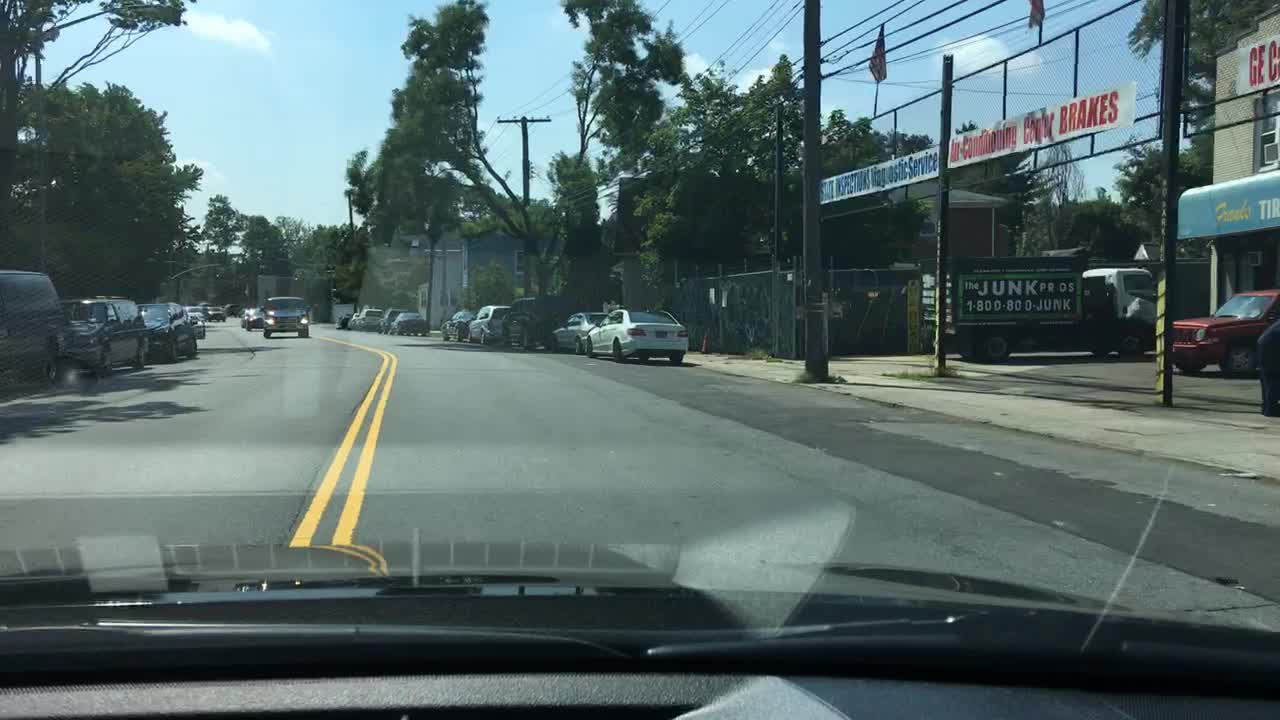car: (1166, 287, 1280, 378), (60, 296, 153, 376), (0, 269, 63, 387), (584, 307, 690, 362), (139, 301, 199, 364), (497, 296, 566, 346), (552, 312, 610, 353), (266, 296, 309, 338), (467, 306, 509, 341), (438, 309, 475, 338), (392, 312, 423, 335), (185, 310, 205, 344), (360, 307, 384, 332), (381, 307, 404, 333), (249, 307, 266, 332), (206, 304, 226, 319), (335, 310, 352, 326), (242, 306, 252, 329), (186, 304, 203, 316), (351, 313, 363, 327)
truck: (916, 249, 1158, 356)
